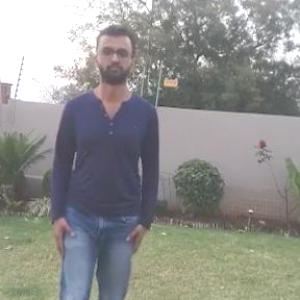follow: (58, 52, 153, 299)
